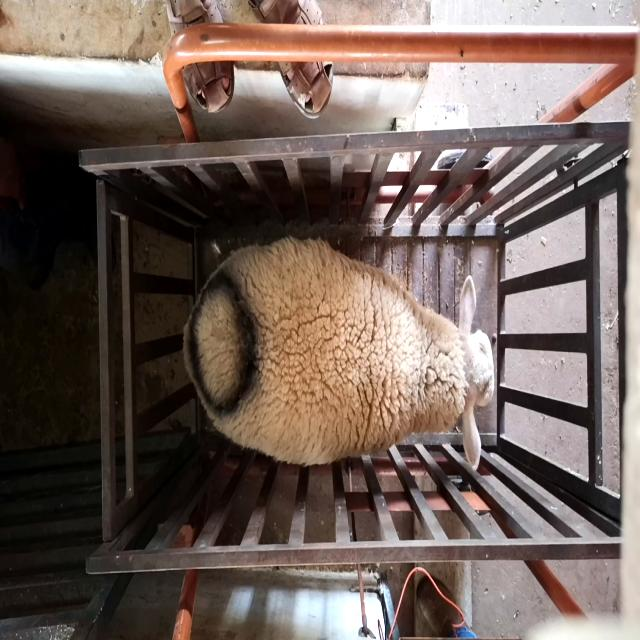sheep: (182, 235, 495, 473)
